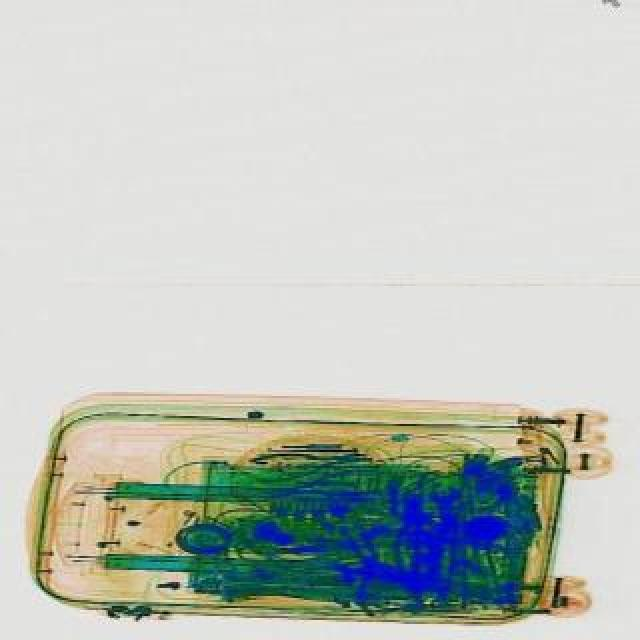scissors: (426, 484, 462, 548)
wrench: (246, 460, 374, 514), (246, 442, 368, 486)
